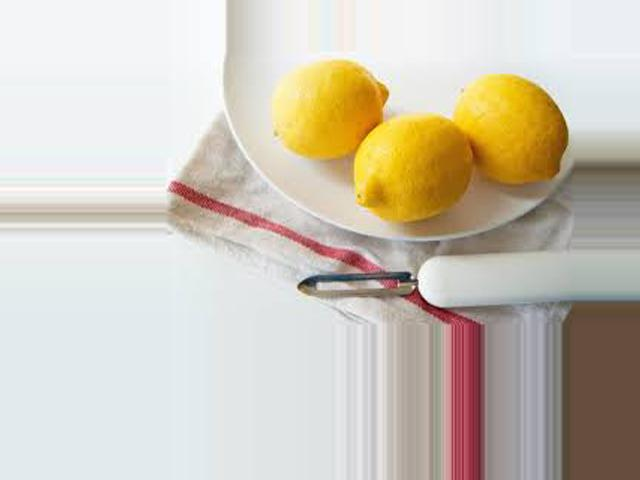lemon: (450, 72, 576, 173)
